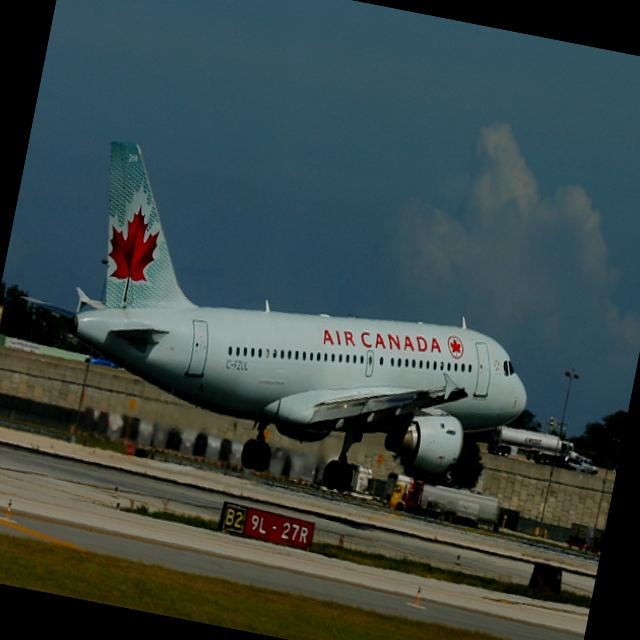Vehicle: (388, 478, 502, 532), (496, 427, 584, 472), (576, 456, 602, 478), (610, 464, 618, 471)
